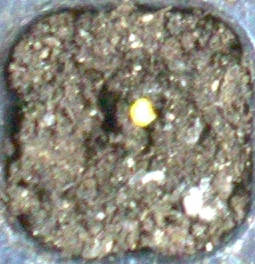chilli seed: (129, 98, 157, 127)
